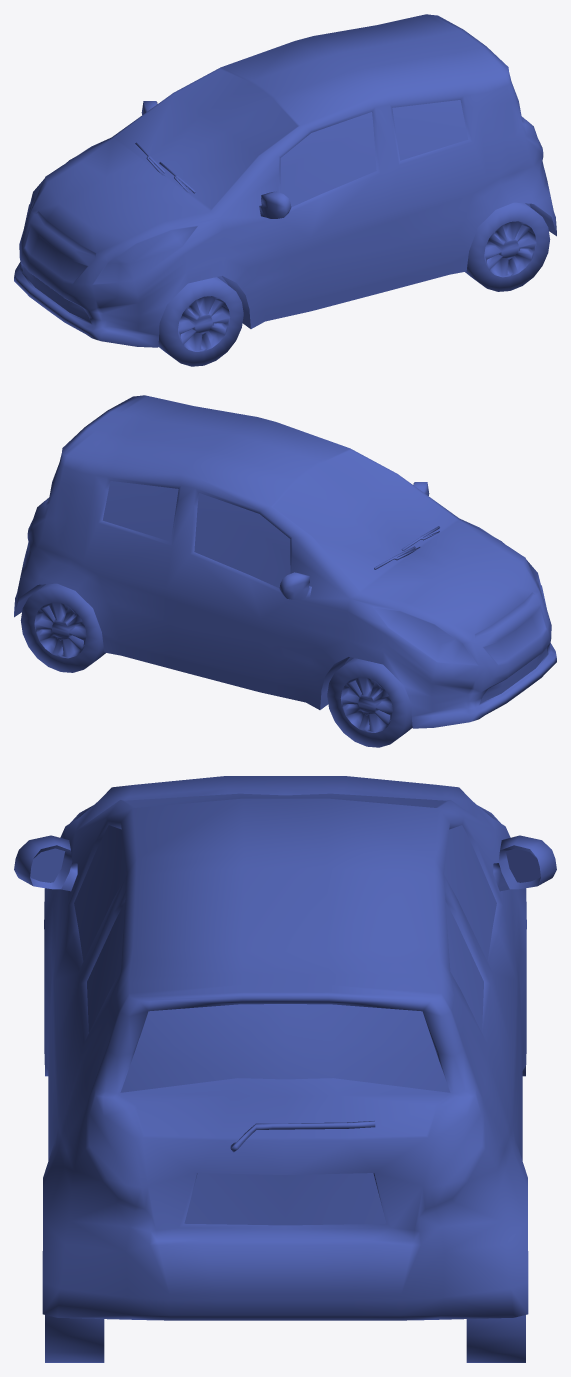
File: street_road_spark.FBX
The picture shows the model from 3 angles, top to bottom: view 1: azimuth 30°, elevation 25°; view 2: azimuth 150°, elevation 25°; view 3: azimuth 270°, elevation 25°; orthographic projection. The views are drawn at different scales.
Parts seen in each view (by area): view 1: street_road_spark_body, street_road_spark_weels, street_road_spark_weels2; view 2: street_road_spark_body, street_road_spark_weels, street_road_spark_weels2; view 3: street_road_spark_body, street_road_spark_weels2.
Part boxes in pixels (x1,y1,x2,y2): street_road_spark_body: (14,14,556,347); street_road_spark_weels: (158,277,243,366); street_road_spark_weels2: (465,202,550,291); street_road_spark_body: (14,395,556,728); street_road_spark_weels: (327,658,412,747); street_road_spark_weels2: (20,583,105,672); street_road_spark_body: (14,776,556,1320); street_road_spark_weels2: (45,1315,525,1362).
Bounding box in the file's own units: 342 × 147 × 181.
